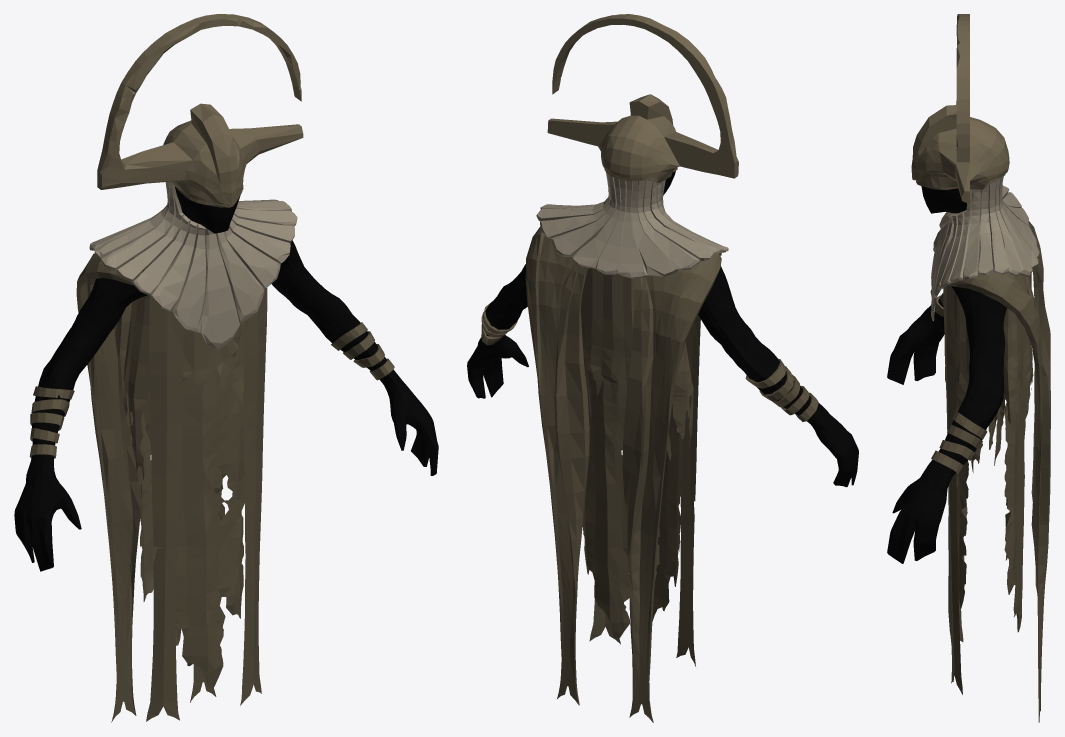
The model's file is Melee_Tier1.fbx.
The picture shows the model from 3 angles, left to right: view 1: azimuth 30°, elevation 25°; view 2: azimuth 150°, elevation 25°; view 3: azimuth 270°, elevation 25°; orthographic projection. The views are drawn at different scales.
Visible parts, largest first — view 1: SK_Enemy_Melee_Tier1.mo; view 2: SK_Enemy_Melee_Tier1.mo; view 3: SK_Enemy_Melee_Tier1.mo.
Boxes of the visible parts, x1,y1,x2,y2 form: SK_Enemy_Melee_Tier1.mo: (14, 14, 438, 722); SK_Enemy_Melee_Tier1.mo: (467, 14, 858, 722); SK_Enemy_Melee_Tier1.mo: (887, 14, 1050, 722).
Bounding box in the file's own units: 147 × 248 × 54.35.
